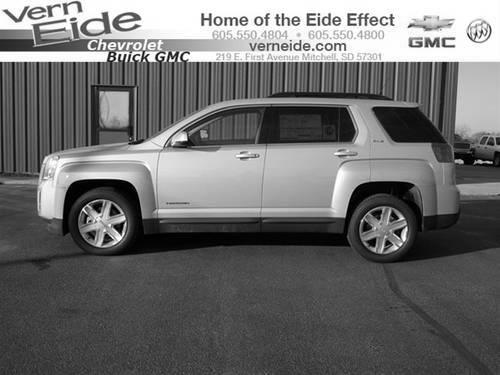car: (1, 1, 500, 375)
